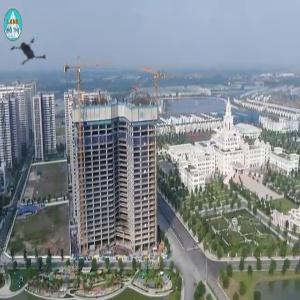drone: (5, 17, 63, 75)
